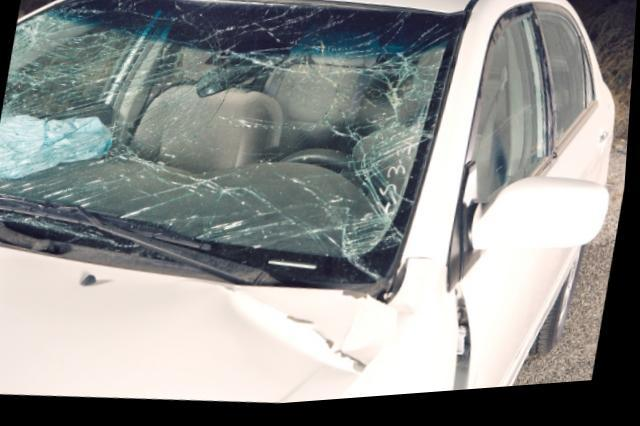dent: (233, 291, 400, 381)
glass shatter: (0, 0, 466, 290)
